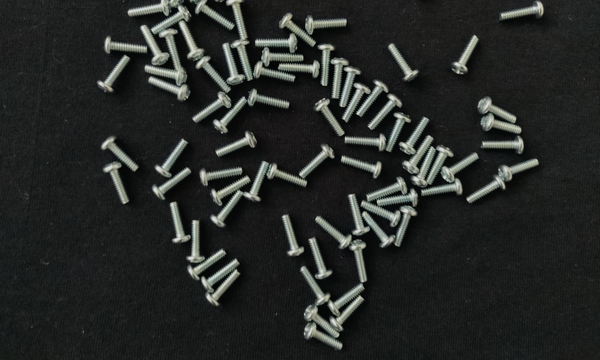shortscrew: (102, 136, 140, 173), (154, 139, 189, 179), (205, 270, 241, 308), (196, 55, 232, 93), (96, 55, 131, 94), (201, 260, 240, 294), (278, 13, 317, 47), (152, 168, 192, 201), (368, 93, 403, 130), (213, 96, 247, 134), (314, 216, 353, 249), (187, 249, 226, 282), (403, 135, 434, 176), (300, 143, 335, 179), (362, 212, 396, 249), (328, 283, 365, 317), (330, 296, 364, 333), (441, 153, 480, 185), (388, 43, 419, 83), (211, 176, 251, 207), (102, 161, 130, 205), (140, 26, 170, 67), (211, 191, 244, 228), (356, 80, 389, 117), (314, 98, 346, 136), (466, 174, 506, 204), (193, 93, 231, 124), (217, 131, 259, 159), (302, 267, 331, 307), (304, 306, 341, 337), (452, 33, 479, 75), (478, 96, 518, 124), (343, 82, 371, 122), (309, 238, 335, 281), (148, 77, 191, 103), (428, 144, 455, 185), (400, 117, 429, 155), (361, 200, 401, 227), (222, 43, 247, 86), (410, 148, 436, 189), (304, 324, 343, 351), (498, 158, 540, 183), (158, 28, 183, 70), (178, 21, 204, 61), (103, 36, 148, 59), (281, 215, 305, 258), (267, 163, 308, 188), (244, 161, 269, 202), (394, 206, 418, 248), (501, 1, 546, 23), (246, 89, 291, 111), (253, 61, 296, 84), (348, 194, 371, 236), (366, 177, 408, 200), (421, 178, 464, 200), (169, 202, 191, 245), (145, 64, 188, 86), (340, 66, 362, 108), (388, 113, 411, 153), (200, 166, 243, 187), (342, 156, 383, 178), (232, 40, 254, 81), (226, 0, 249, 39), (482, 113, 522, 135), (349, 240, 369, 283), (186, 221, 206, 264), (262, 48, 305, 68), (255, 34, 299, 53), (482, 135, 525, 154), (344, 134, 387, 153), (127, 0, 172, 18), (377, 187, 419, 206), (305, 15, 347, 34), (278, 61, 321, 79), (331, 58, 349, 99), (318, 43, 333, 86), (147, 0, 186, 10), (174, 0, 207, 8), (191, 0, 230, 2)
